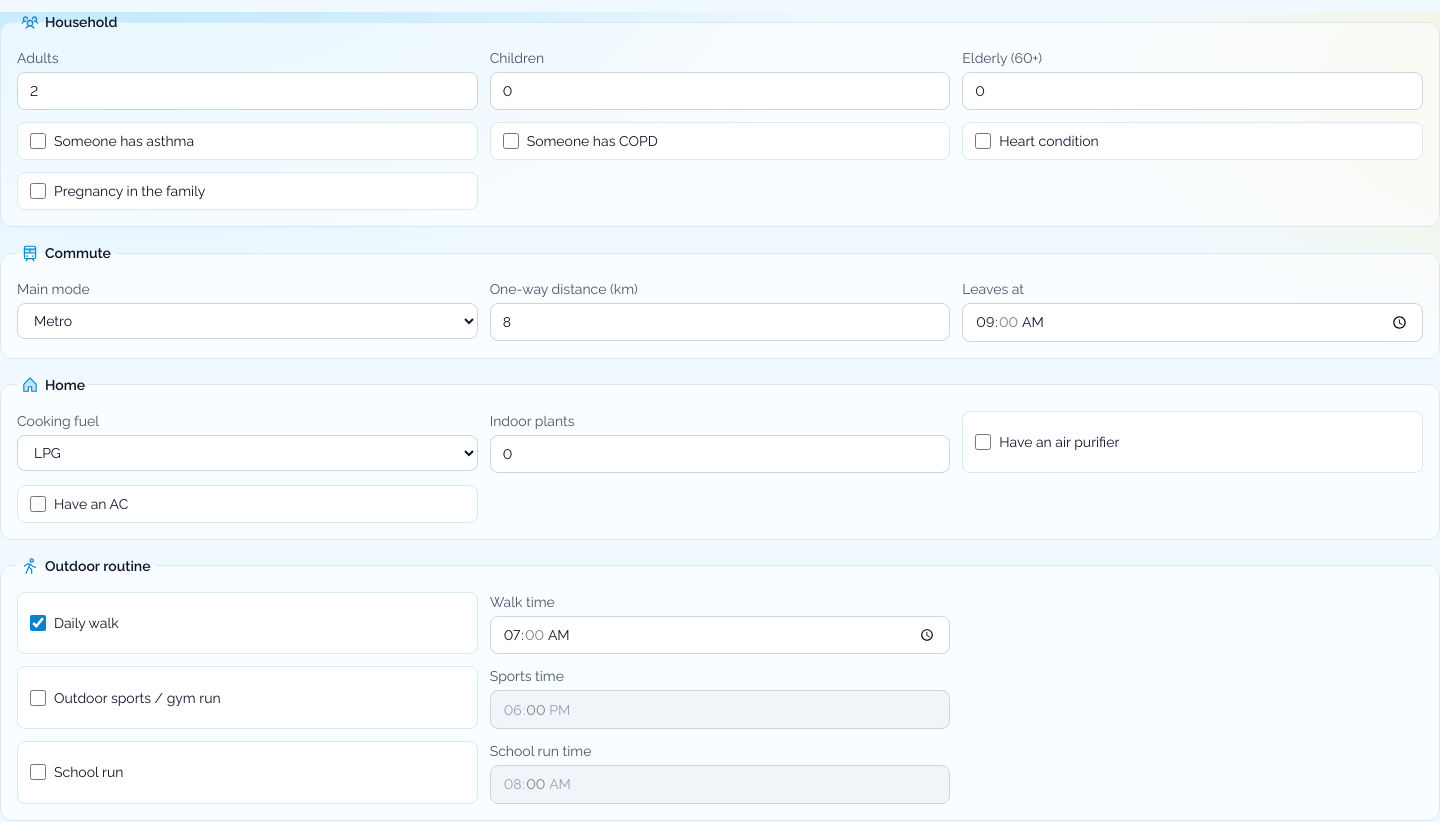
Test: ProfileForm › disables the walk time when there is no daily walk
Click the checkbox labelled "Daily walk".
click(38, 623)  # box [30,615,46,631]
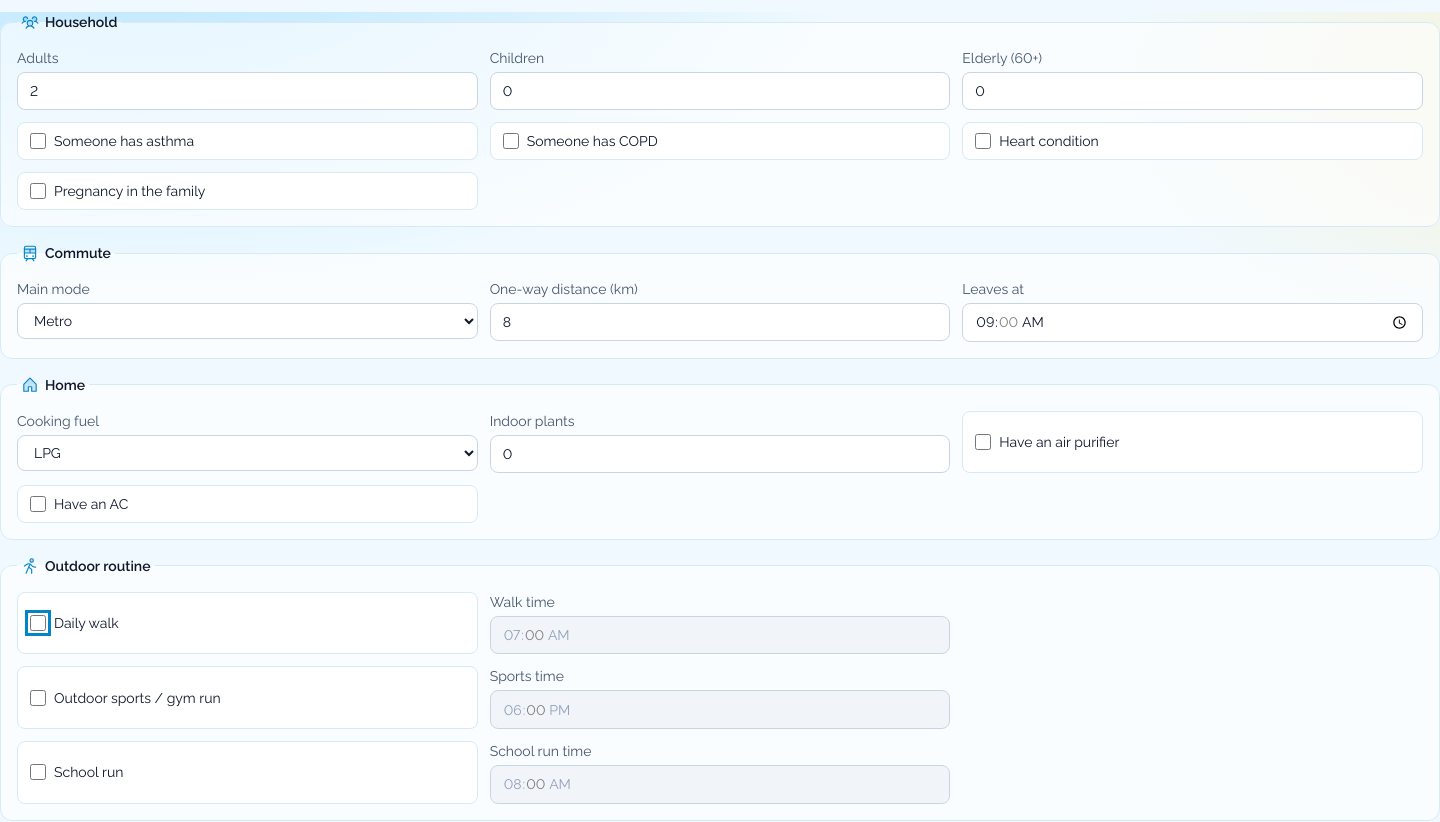
Expected: the time field labelled "Walk time" is disabled, [490,616,950,654]
